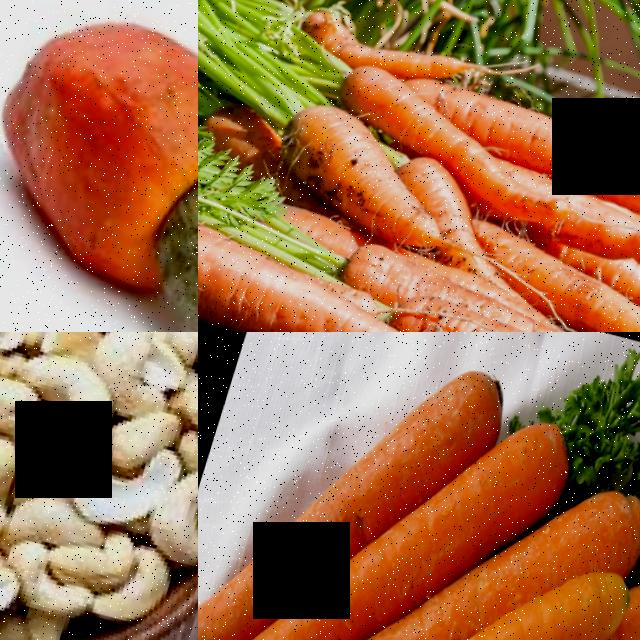carrot: (198, 207, 482, 332), (271, 332, 506, 466), (306, 484, 463, 640), (448, 382, 580, 549), (248, 98, 424, 218), (449, 90, 640, 199), (268, 55, 460, 154), (462, 538, 633, 640), (474, 237, 640, 329), (293, 0, 468, 85), (560, 440, 640, 574), (521, 183, 640, 272)
cashew: (31, 332, 137, 461), (143, 170, 198, 332), (48, 522, 141, 602), (2, 547, 95, 626), (143, 445, 198, 566), (110, 544, 185, 626), (122, 332, 196, 394), (176, 376, 198, 436)
